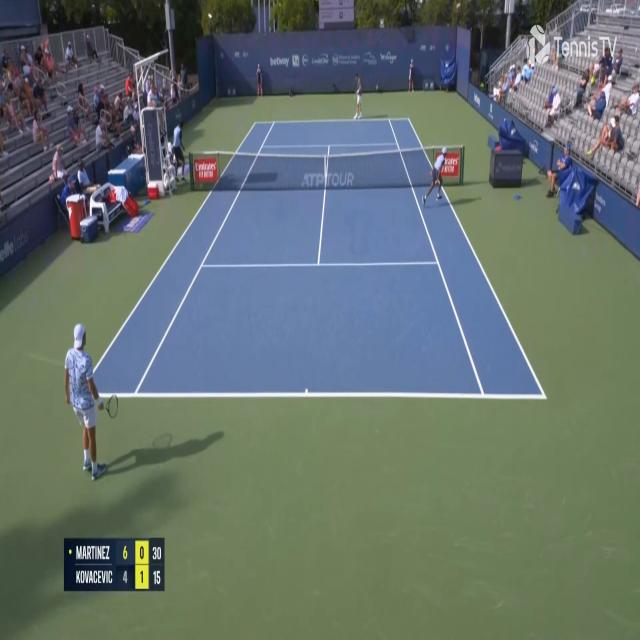tennis-player: (63, 320, 122, 482), (352, 70, 363, 121)
